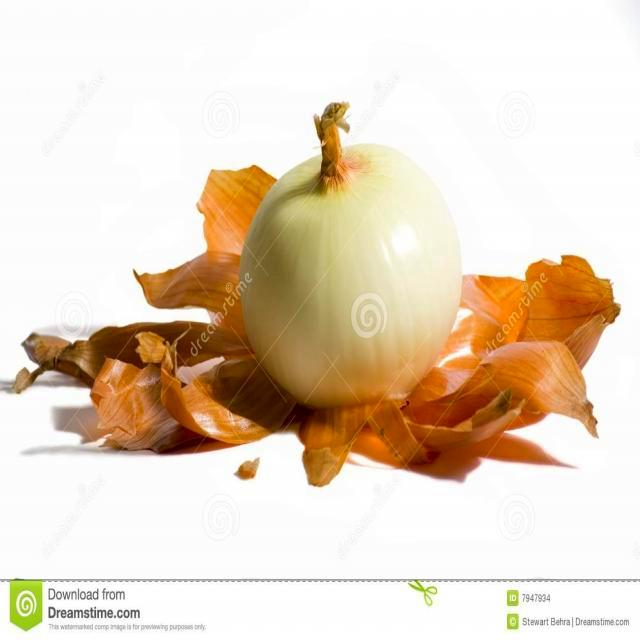onion: (236, 116, 464, 408)
